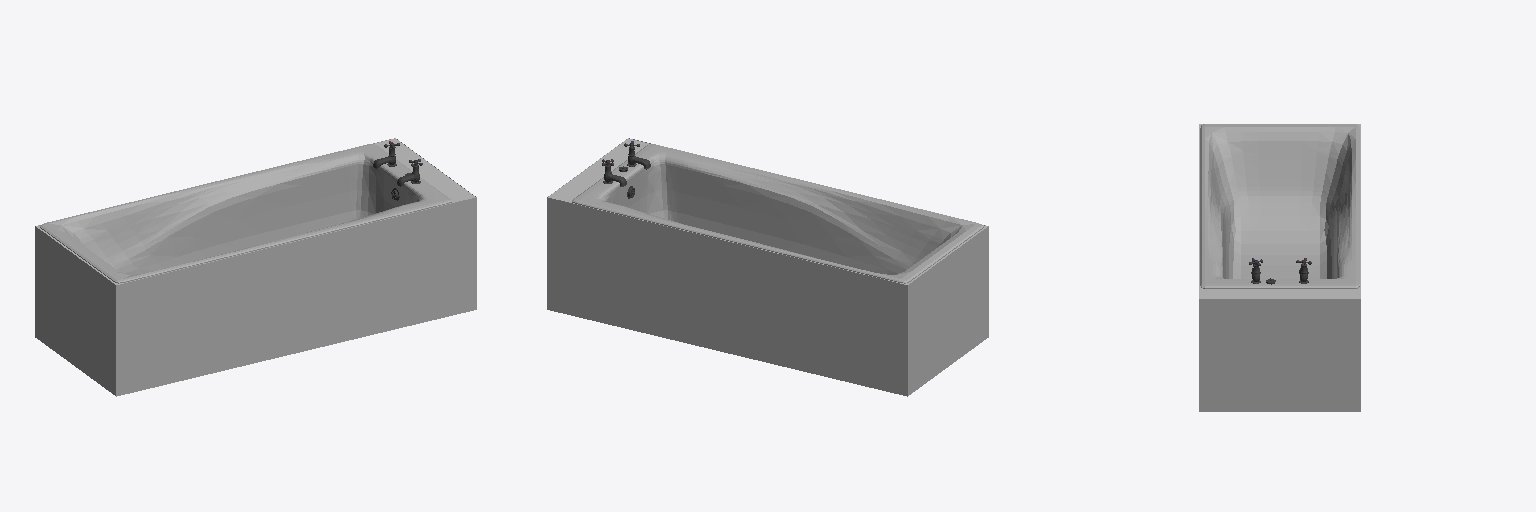
File: bathroom_bathtub.obj
3 renders of one model, left to right at view 1: azimuth 30°, elevation 25°; view 2: azimuth 150°, elevation 25°; view 3: azimuth 270°, elevation 25°, orthographic.
Visible parts, largest first — view 1: Bath-back-panel_Plane.014, Bath_Plane.001; view 2: Bath-back-panel_Plane.014, Bath_Plane.001; view 3: Bath_Plane.001, Bath-back-panel_Plane.014.
Part boxes in pixels (x1,y1,x2,y2): Bath-back-panel_Plane.014: (35, 138, 476, 396); Bath_Plane.001: (40, 144, 451, 283); Bath-back-panel_Plane.014: (547, 138, 988, 396); Bath_Plane.001: (572, 144, 983, 283); Bath_Plane.001: (1200, 124, 1359, 288); Bath-back-panel_Plane.014: (1199, 124, 1360, 411).
Bounding box in the file's own units: 180 × 65.06 × 70.08.